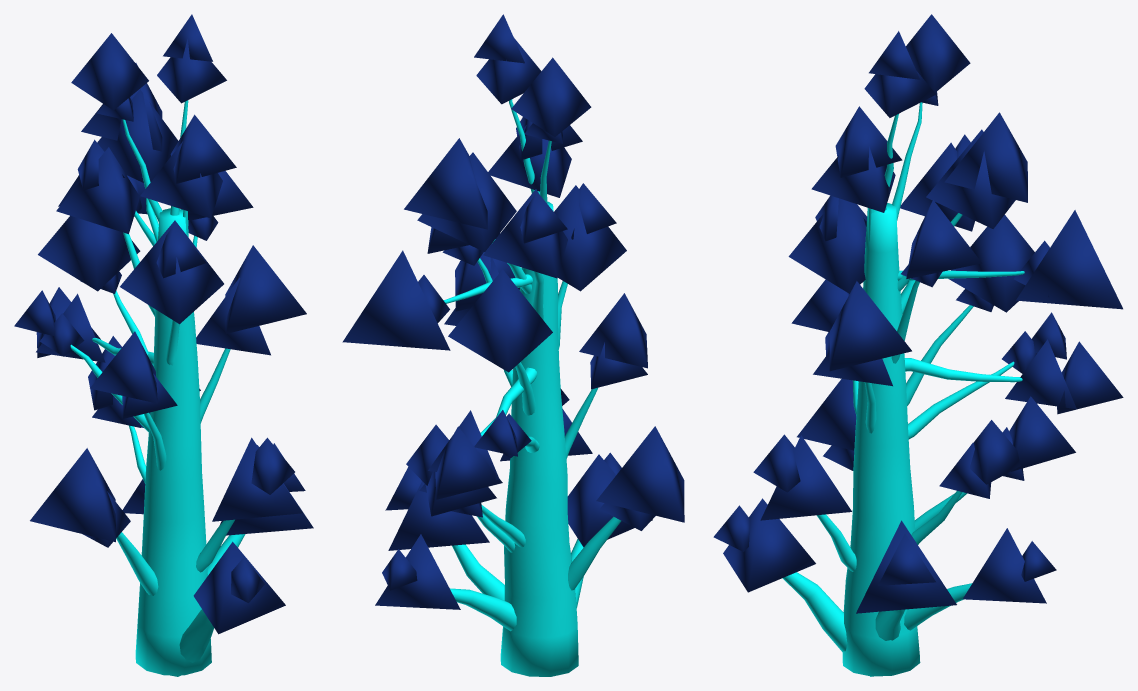
The model's file is AnaliaTree.fbx.
The picture shows the model from 3 angles, left to right: view 1: azimuth 30°, elevation 25°; view 2: azimuth 150°, elevation 25°; view 3: azimuth 270°, elevation 25°; orthographic projection. The views are drawn at different scales.
Visible parts, largest first — view 1: merge1; view 2: merge1; view 3: merge1.
Boxes of the visible parts, <box> form: merge1: <box>14,14,313,676</box>; merge1: <box>342,14,684,676</box>; merge1: <box>713,14,1123,676</box>.
Bounding box in the file's own units: 16.04 × 36.21 × 20.5.
